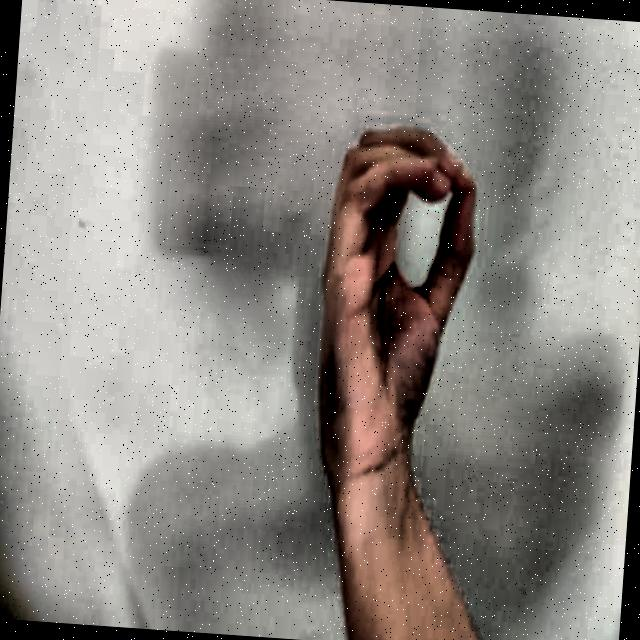O: (270, 83, 502, 510)
